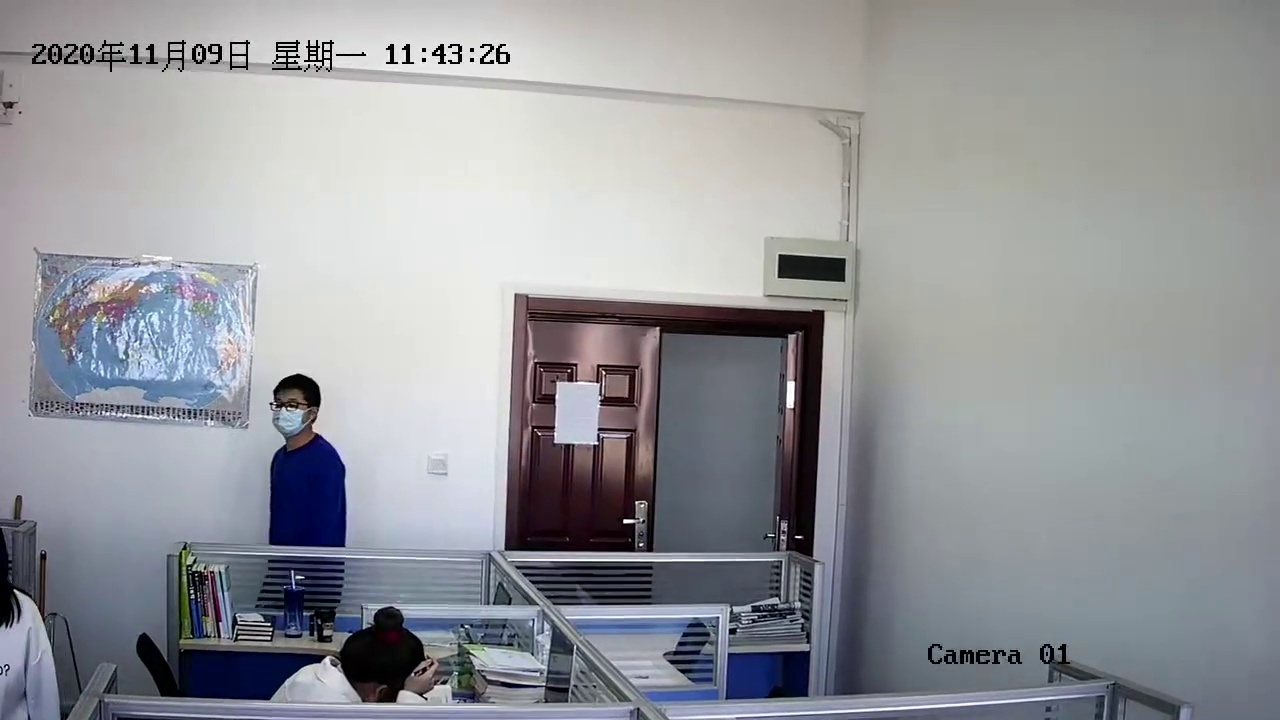mask: (265, 380, 324, 447)
